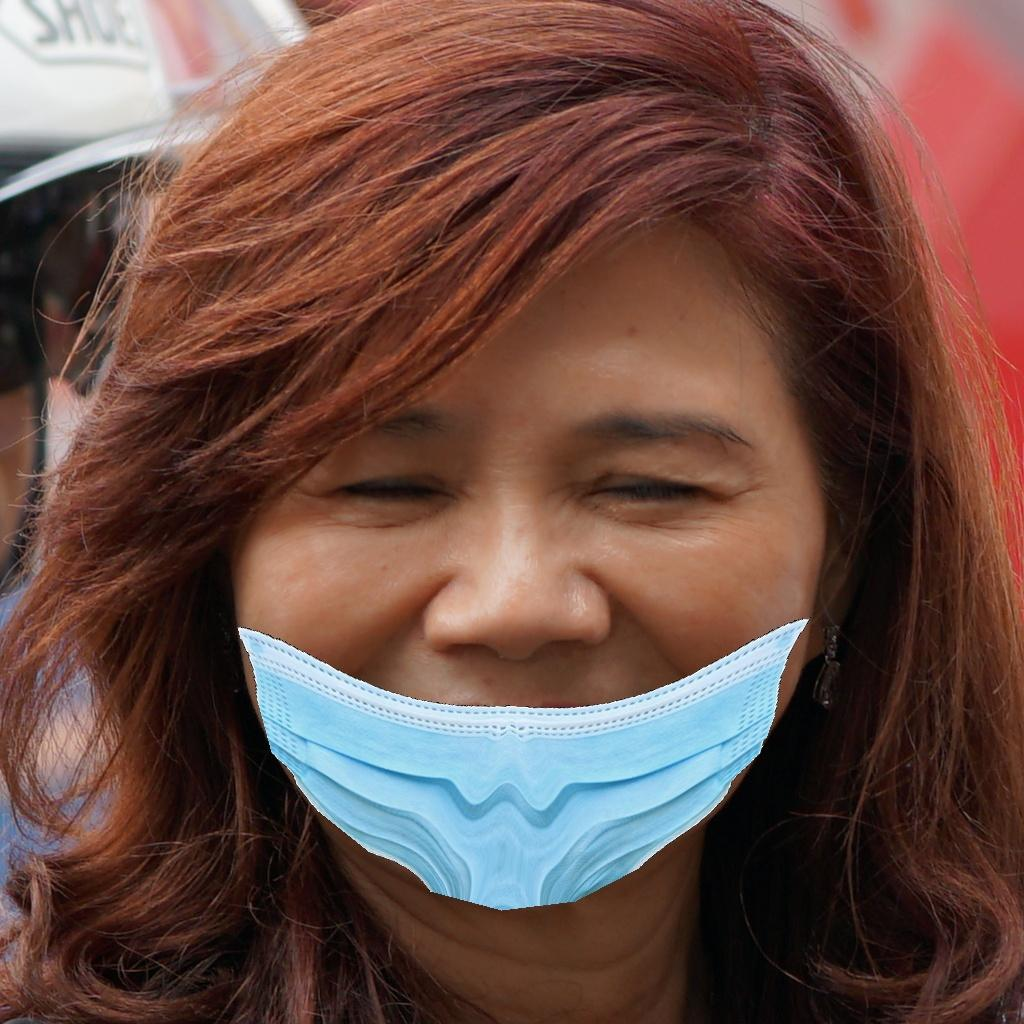Máscara Incorreta: (220, 348, 822, 905)
